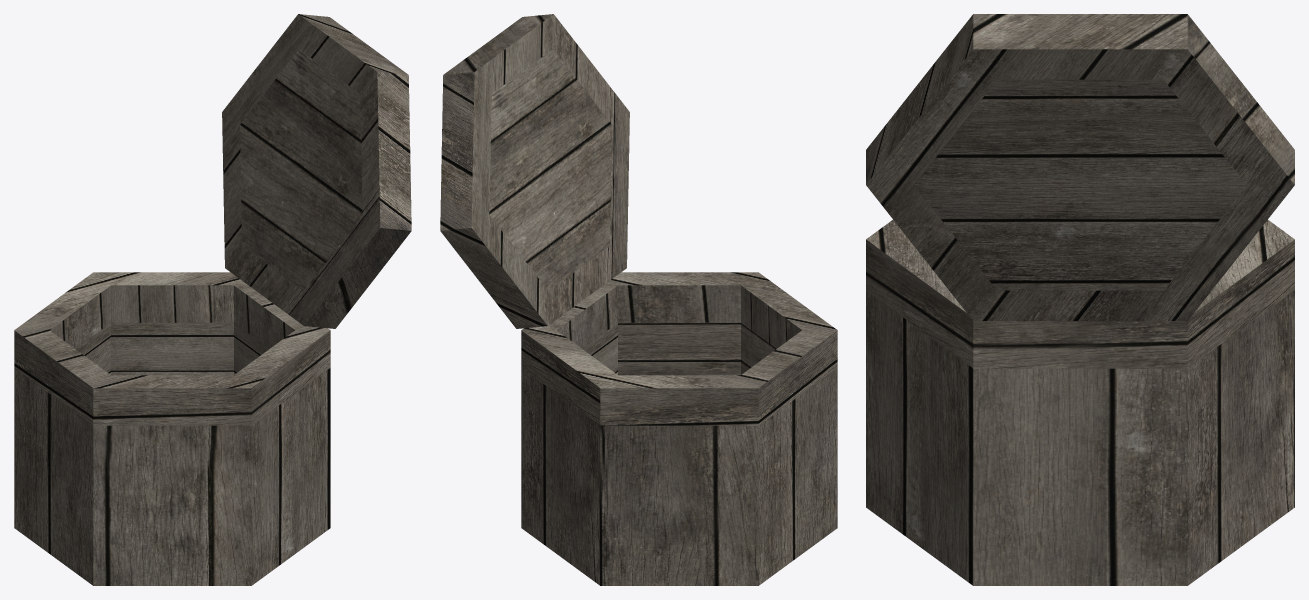
File: MusicBox.fbx
The picture shows the model from 3 angles, left to right: view 1: azimuth 30°, elevation 25°; view 2: azimuth 150°, elevation 25°; view 3: azimuth 270°, elevation 25°; orthographic projection. The views are drawn at different scales.
Visible parts, largest first — view 1: Cylinder.012, Cylinder.013; view 2: Cylinder.012, Cylinder.013; view 3: Cylinder.012, Cylinder.013.
Part boxes in pixels (x1=…): Cylinder.012: x1=14, y1=272, x2=330, y2=585; Cylinder.013: x1=222, y1=14, x2=411, y2=328; Cylinder.012: x1=521, y1=272, x2=837, y2=585; Cylinder.013: x1=440, y1=14, x2=629, y2=328; Cylinder.012: x1=866, y1=220, x2=1294, y2=585; Cylinder.013: x1=866, y1=14, x2=1294, y2=320.
Size of the model in its own units: 230 by 310 by 200.
Materials: 2 (2 with a texture image).
